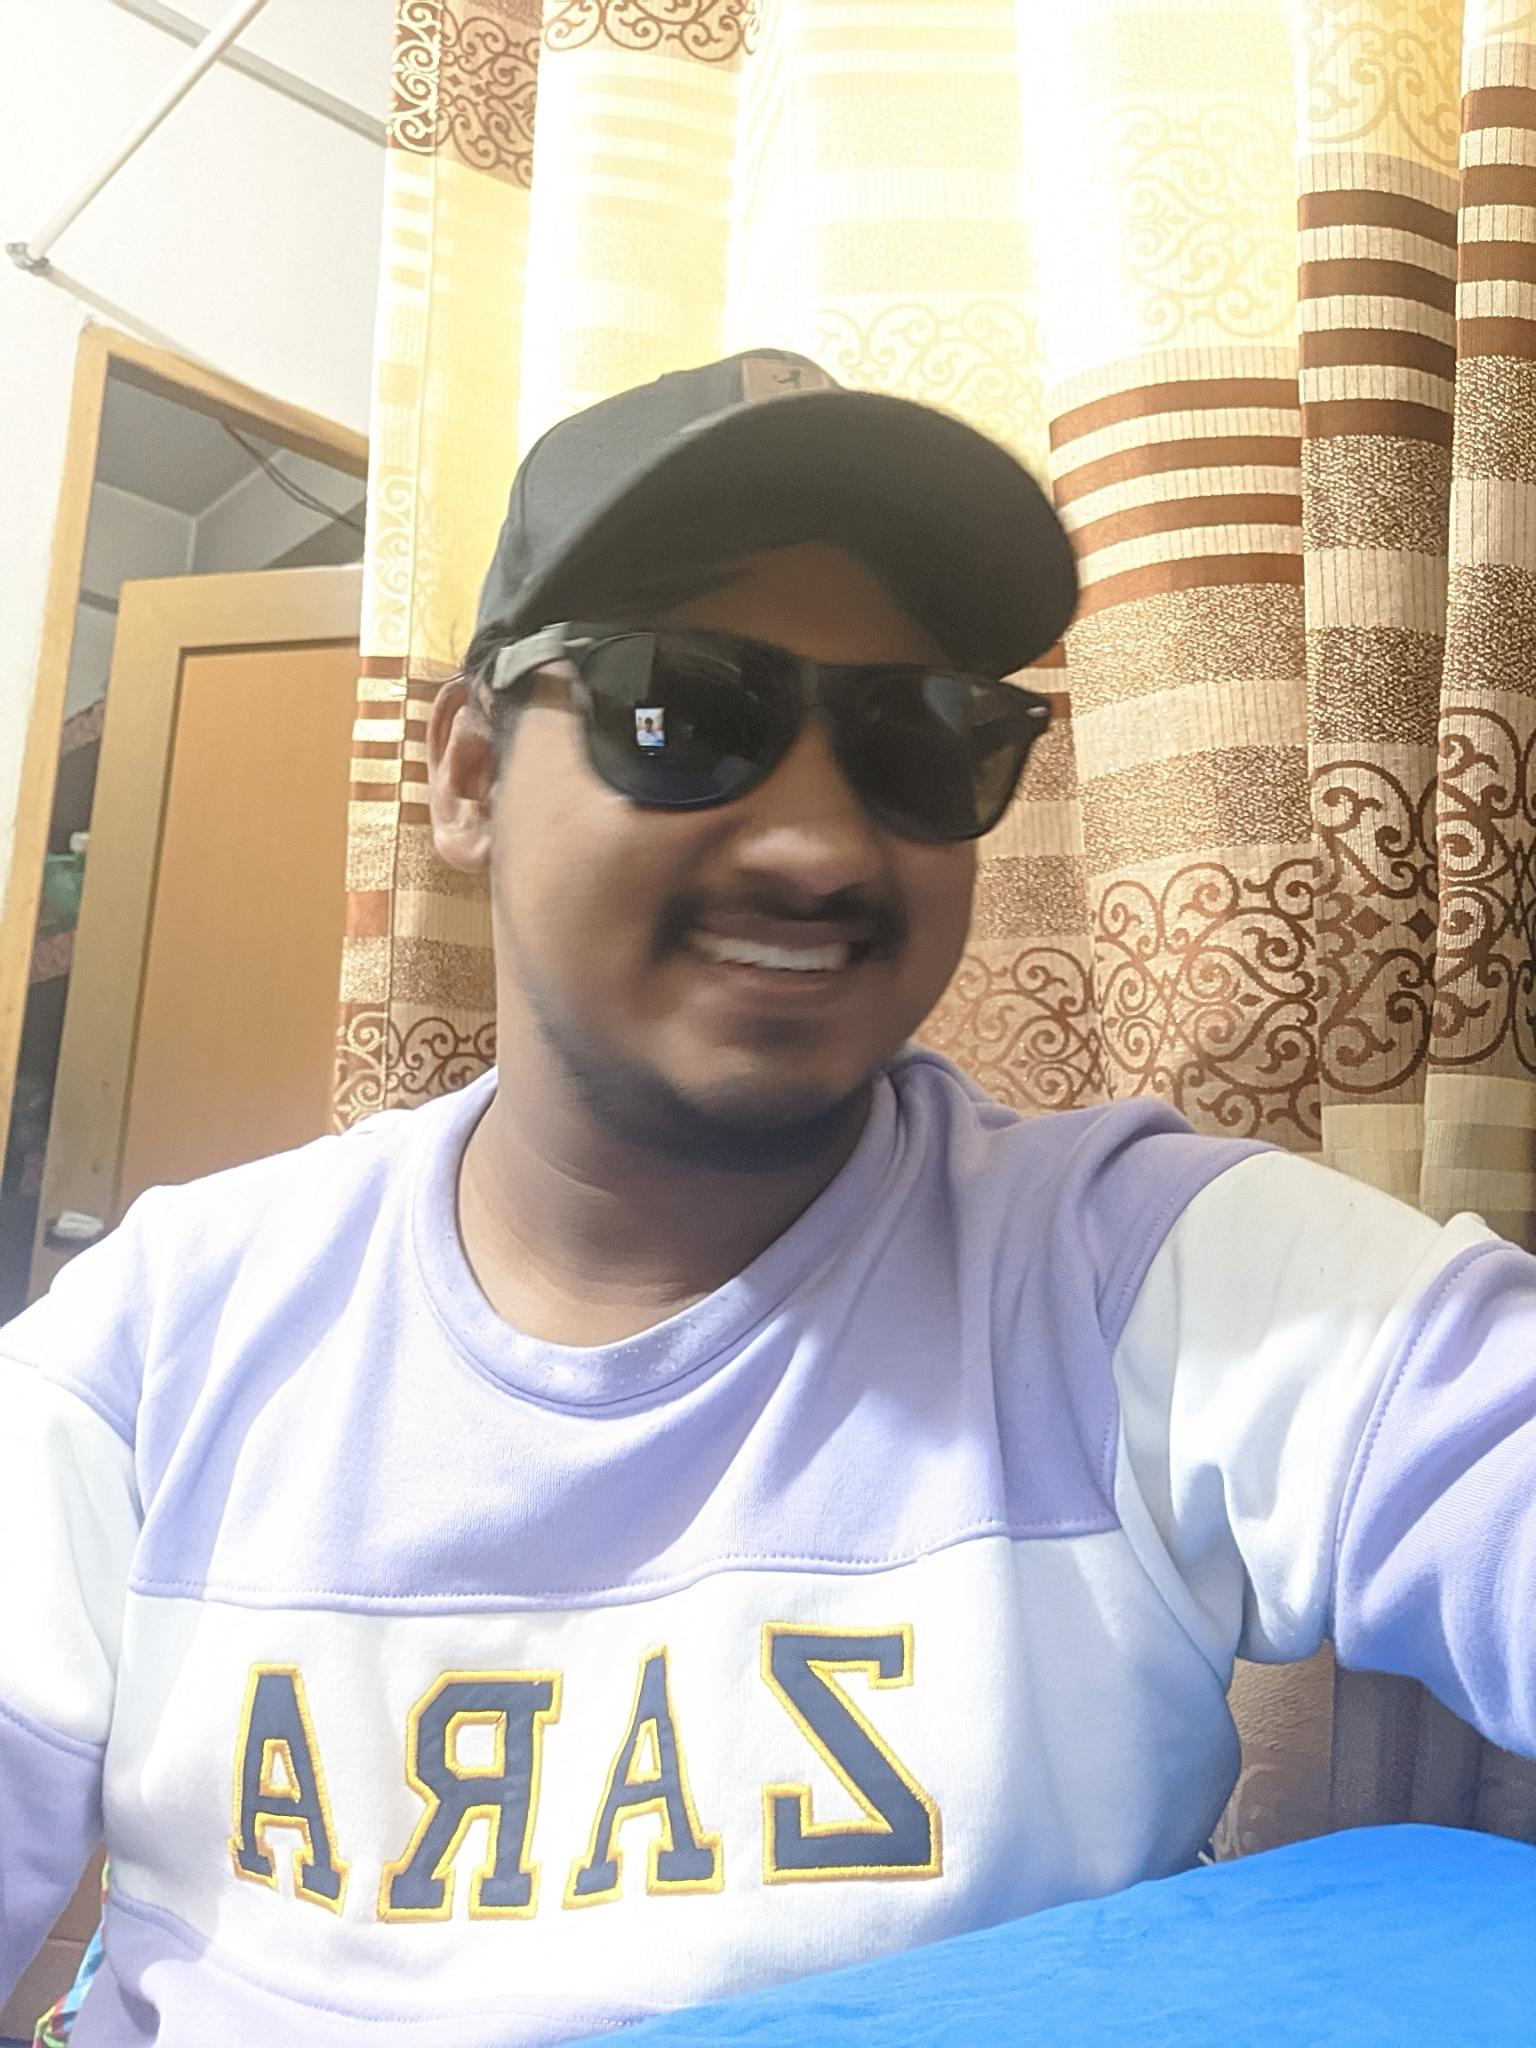Happy: (529, 584, 987, 1105)
